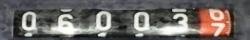digits: (50, 9, 85, 37), (205, 10, 232, 38), (133, 11, 150, 31), (94, 11, 111, 30), (21, 11, 37, 30), (172, 13, 188, 28)
